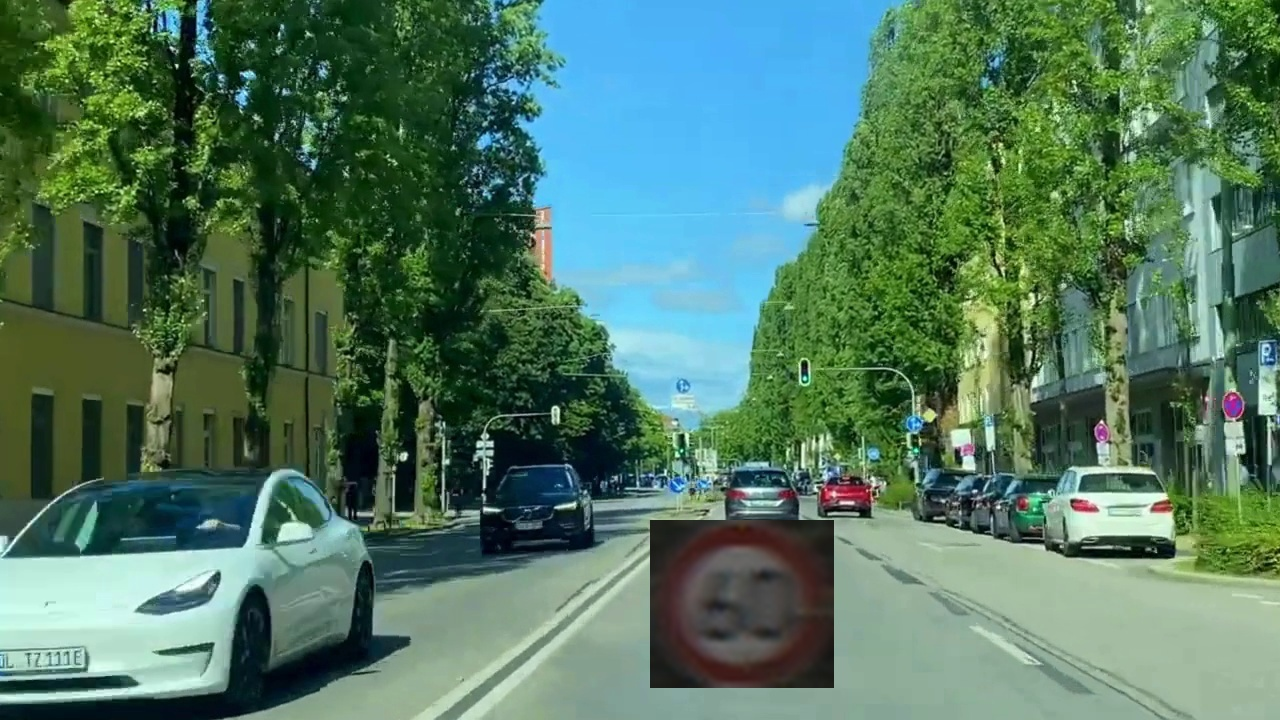Speed 60: (650, 520, 834, 688)
